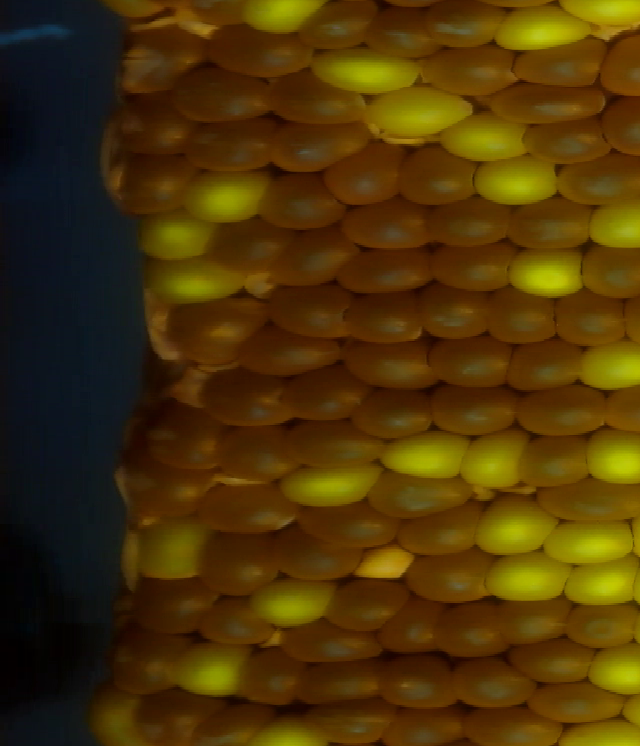fluorescent: (377, 429, 470, 482), (314, 49, 422, 94), (184, 166, 272, 221), (546, 512, 633, 567), (360, 83, 471, 126), (478, 495, 558, 554), (133, 520, 208, 582), (278, 464, 381, 508), (171, 640, 250, 696), (246, 578, 340, 625), (458, 429, 529, 491), (143, 262, 251, 302), (483, 554, 573, 602), (495, 3, 587, 48), (438, 112, 530, 157), (133, 211, 218, 258), (472, 157, 558, 203), (508, 248, 588, 297), (563, 557, 640, 607), (585, 421, 640, 488), (576, 338, 640, 390), (584, 192, 640, 247), (583, 642, 640, 696), (88, 687, 138, 746), (243, 1, 331, 32), (350, 543, 413, 582), (563, 1, 640, 28)
nonfluorescent: (187, 475, 300, 534), (116, 25, 208, 95), (340, 335, 444, 394), (174, 67, 273, 127), (283, 415, 390, 470), (414, 45, 527, 97), (206, 24, 314, 78), (201, 367, 297, 427), (178, 117, 277, 174), (401, 548, 500, 605), (266, 71, 361, 130), (516, 381, 611, 440), (111, 455, 201, 517), (333, 197, 434, 252), (273, 120, 370, 177), (140, 395, 220, 464), (170, 298, 266, 355), (427, 330, 514, 392), (400, 140, 477, 210), (256, 171, 344, 232), (503, 335, 590, 395), (493, 81, 611, 125), (508, 44, 618, 91), (394, 504, 483, 562), (237, 325, 341, 374), (416, 280, 498, 342), (300, 502, 403, 551), (484, 288, 564, 351), (266, 282, 351, 341), (531, 481, 640, 527), (273, 620, 383, 665), (197, 535, 283, 592), (431, 598, 508, 661), (280, 528, 361, 587), (328, 144, 406, 205), (556, 288, 630, 352), (526, 680, 631, 725), (364, 5, 444, 64), (508, 197, 593, 252), (371, 467, 468, 515), (134, 577, 214, 635), (206, 425, 290, 480), (431, 387, 523, 437), (371, 655, 453, 710), (127, 687, 203, 746), (434, 242, 514, 298), (200, 592, 280, 648), (507, 642, 604, 688), (430, 198, 513, 251), (350, 387, 433, 440), (206, 218, 298, 265), (524, 118, 610, 168), (237, 647, 304, 710), (518, 434, 593, 490), (566, 594, 638, 652), (290, 364, 363, 421), (337, 250, 436, 292), (556, 155, 640, 204), (263, 237, 356, 281), (338, 295, 420, 344), (496, 597, 574, 648), (326, 582, 404, 632), (453, 658, 526, 711), (120, 100, 186, 158), (121, 161, 188, 217), (306, 1, 380, 50), (378, 600, 438, 660), (430, 1, 501, 51), (460, 711, 566, 744), (116, 637, 177, 694), (581, 242, 640, 300), (301, 661, 378, 705), (386, 707, 468, 746), (203, 691, 258, 746), (318, 704, 389, 746), (600, 94, 640, 160), (603, 32, 640, 100), (596, 378, 640, 435)
